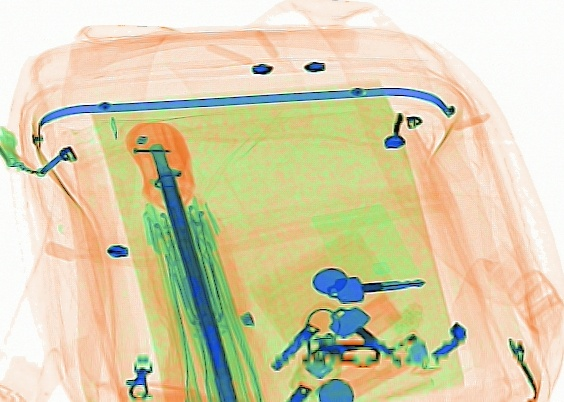lighter: (325, 329, 429, 400)
